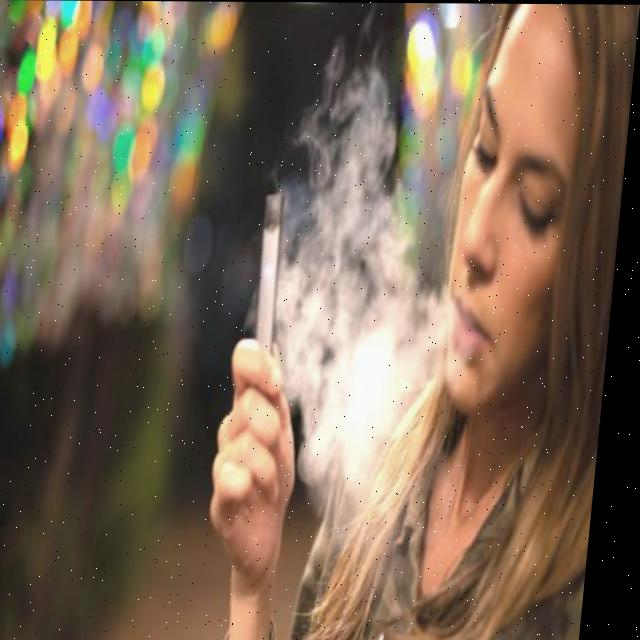cigarette: (257, 192, 293, 348)
